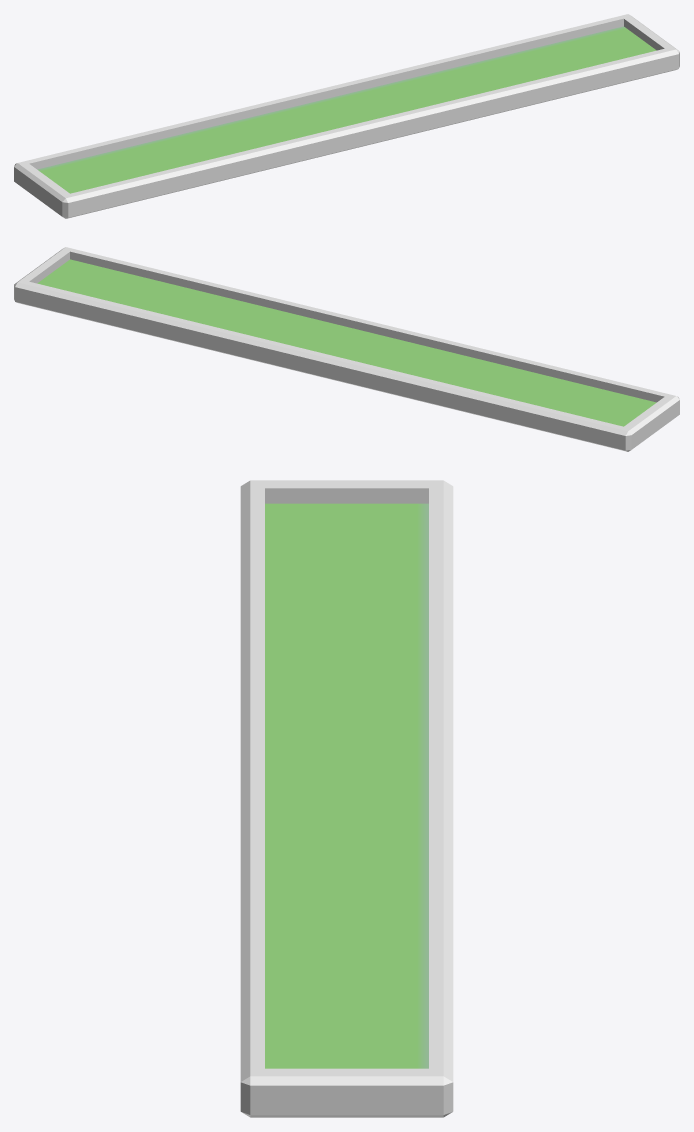
File: bed_2_world_ap_0_lev1.glb
3 renders of one model, top to bottom at view 1: azimuth 30°, elevation 25°; view 2: azimuth 150°, elevation 25°; view 3: azimuth 270°, elevation 25°, orthographic. The views are drawn at different scales.
Visible parts, largest first — view 1: bed_2_world_ap_0_lev1; view 2: bed_2_world_ap_0_lev1; view 3: bed_2_world_ap_0_lev1.
Part boxes in pixels (left/top/right/bottom): bed_2_world_ap_0_lev1: left=14, top=14, right=679, bottom=218; bed_2_world_ap_0_lev1: left=14, top=247, right=679, bottom=451; bed_2_world_ap_0_lev1: left=240, top=480, right=453, bottom=1117.
Bounding box in the file's own units: 5.56 × 0.1777 × 0.8299.
1 material, 1 textured.
